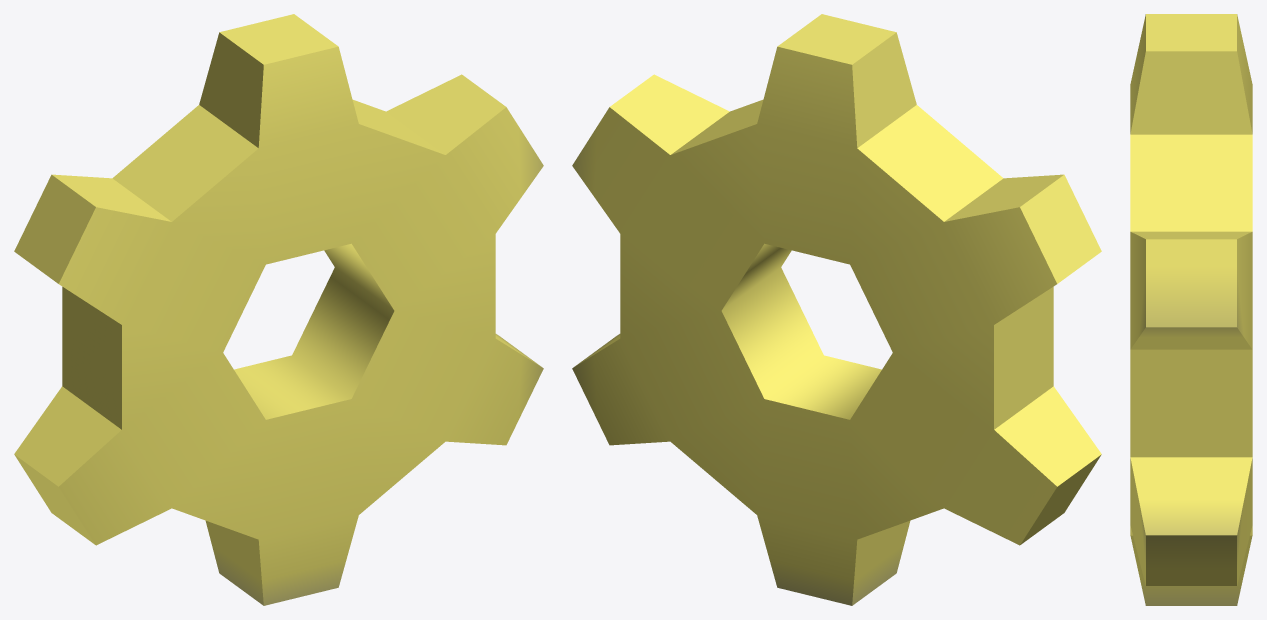
File: Gear.fbx
3 renders of one model, left to right at view 1: azimuth 30°, elevation 25°; view 2: azimuth 150°, elevation 25°; view 3: azimuth 270°, elevation 25°, orthographic. The views are drawn at different scales.
Visible parts, largest first — view 1: Gear; view 2: Gear; view 3: Gear.
Boxes of the visible parts, x1,y1,x2,y2 form: Gear: [14, 14, 543, 605]; Gear: [572, 14, 1101, 605]; Gear: [1130, 14, 1252, 605].
Size of the model in its own units: 96.62 by 20.55 by 103.
